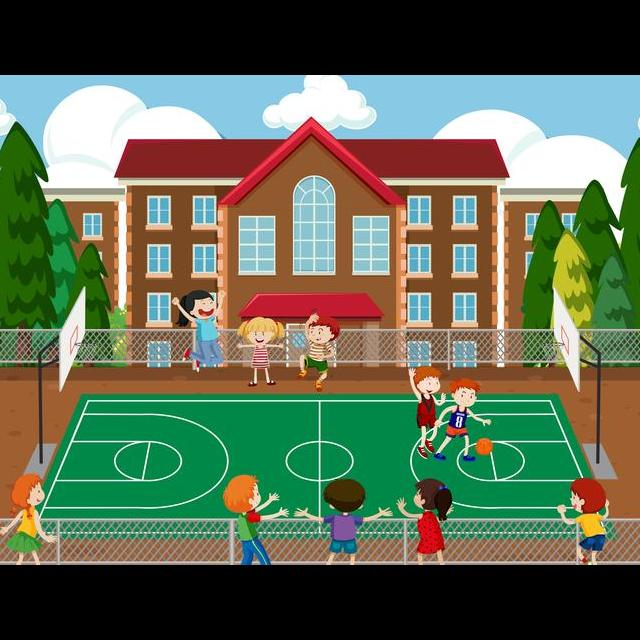basketball: (474, 437, 492, 455)
hoop: (68, 339, 100, 365), (542, 339, 560, 367)
